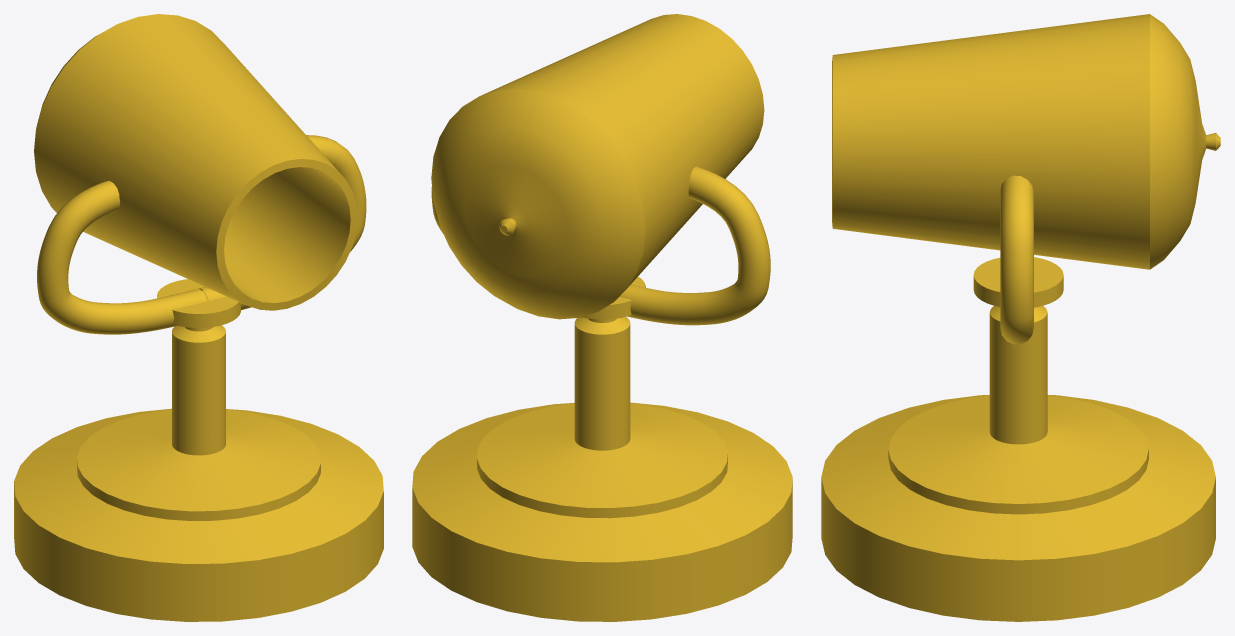
Rendered from canon.glb.
3 renders of one model, left to right at view 1: azimuth 30°, elevation 25°; view 2: azimuth 150°, elevation 25°; view 3: azimuth 270°, elevation 25°, orthographic. The views are drawn at different scales.
Visible parts, largest first — view 1: Canon; view 2: Canon; view 3: Canon.
Part boxes in pixels (box(x1,y1,x2,y2)): Canon: box(14, 14, 383, 621); Canon: box(412, 14, 792, 621); Canon: box(821, 14, 1220, 621).
Size of the model in its own units: 1.42 by 2.01 by 1.42.
